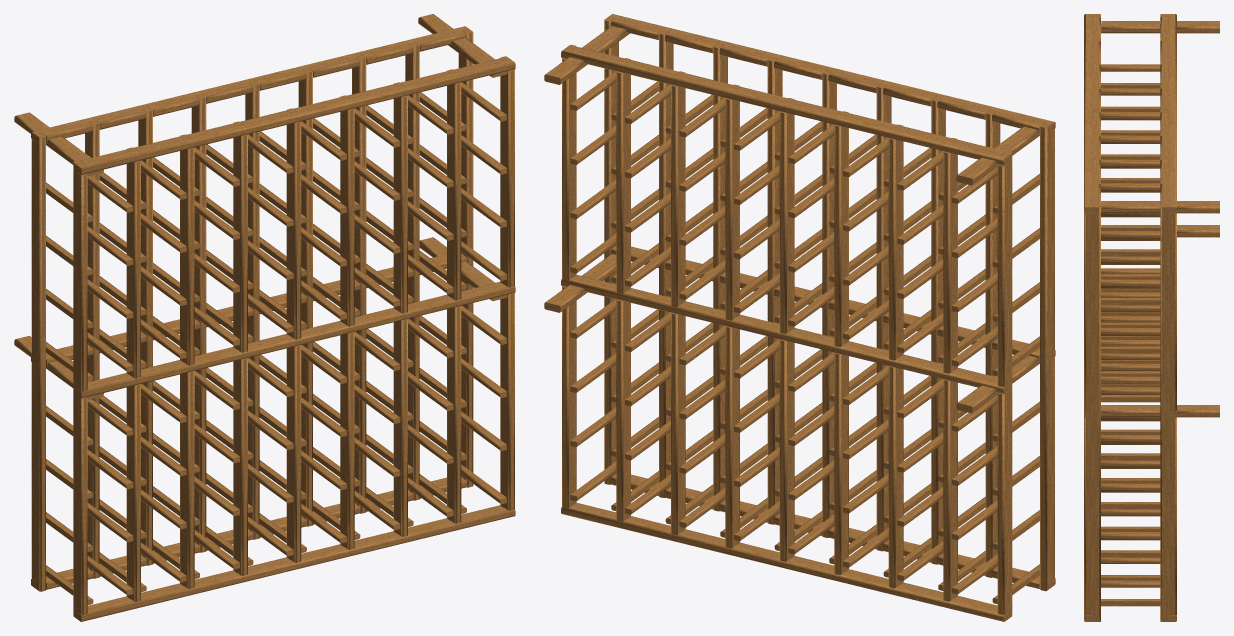
Rendered from VCKA0010.glb.
3 views of the same model, side by side, from view 1: azimuth 30°, elevation 25°; view 2: azimuth 150°, elevation 25°; view 3: azimuth 270°, elevation 25° (orthographic). The views are drawn at different scales.
Parts seen in each view (by area): view 1: V Bar IB 32 32; view 2: V Bar IB 32 32; view 3: V Bar IB 32 32.
Boxes of the visible parts, x1,y1,x2,y2 form: V Bar IB 32 32: [14, 14, 515, 621]; V Bar IB 32 32: [544, 14, 1055, 621]; V Bar IB 32 32: [1084, 14, 1219, 621].
Size of the model in its own units: 0.812 by 0.812 by 0.241.
3 materials, 3 textured.
